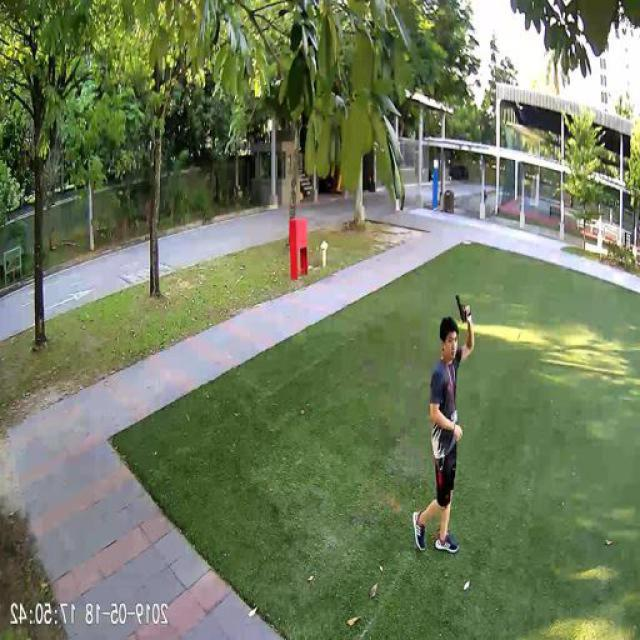weapon: (455, 296, 473, 324)
